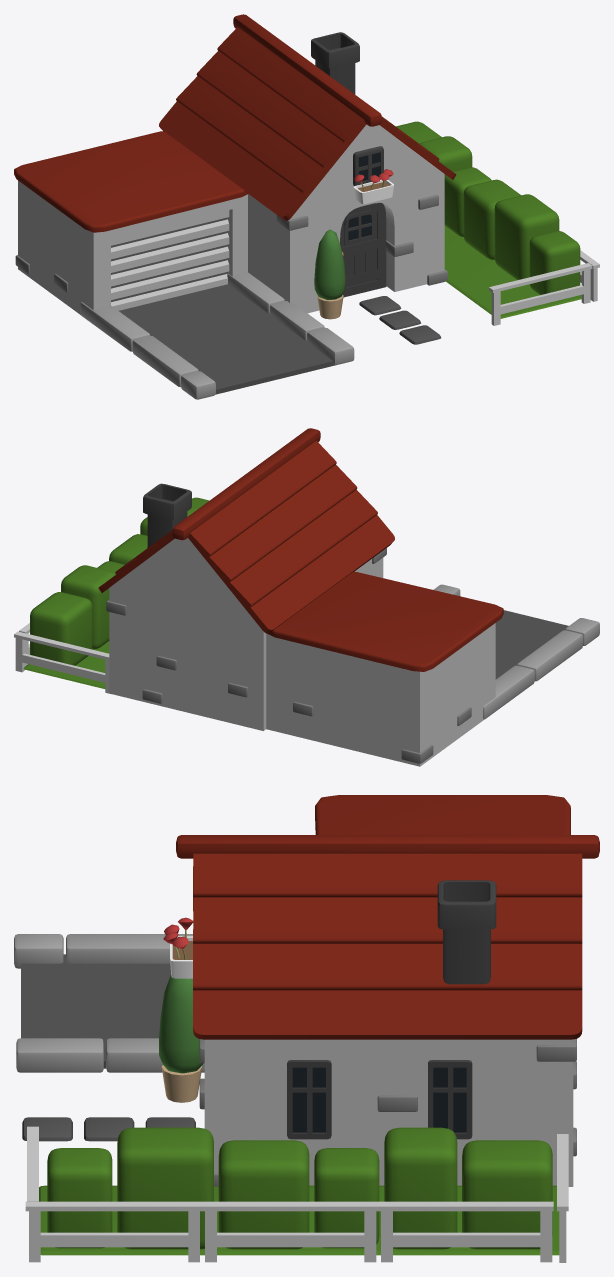
Rendered from SM_house_cute_04.fbx.
3 renders of one model, top to bottom at view 1: azimuth 30°, elevation 25°; view 2: azimuth 150°, elevation 25°; view 3: azimuth 270°, elevation 25°, orthographic. The views are drawn at different scales.
Visible parts, largest first — view 1: Box005; view 2: Box005; view 3: Box005.
Part boxes in pixels (<box>): Box005: <box>14,14,599,399</box>; Box005: <box>14,428,599,766</box>; Box005: <box>14,795,599,1262</box>.
Size of the model in its own units: 375 by 167 by 300.
